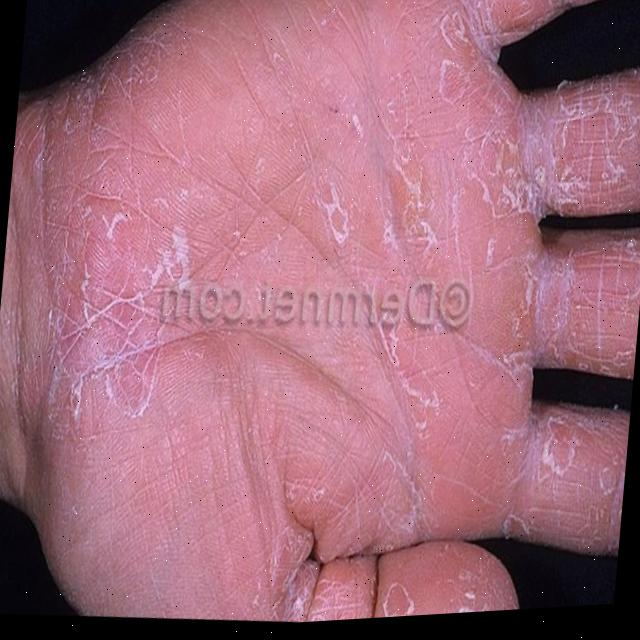Eczema: (32, 0, 640, 575)
